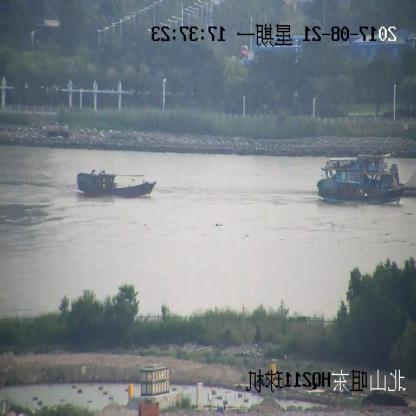Fishing Boat: (317, 165, 405, 204), (77, 172, 156, 200)
